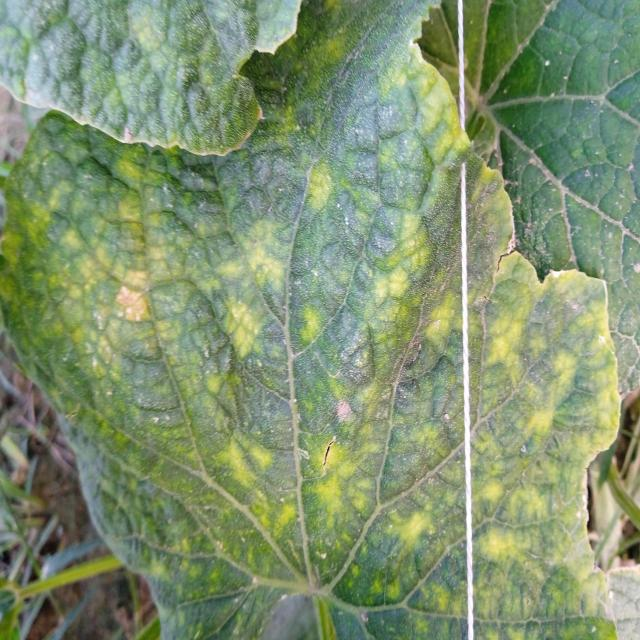cucumber_downy: (8, 169, 622, 638), (289, 0, 514, 273)
